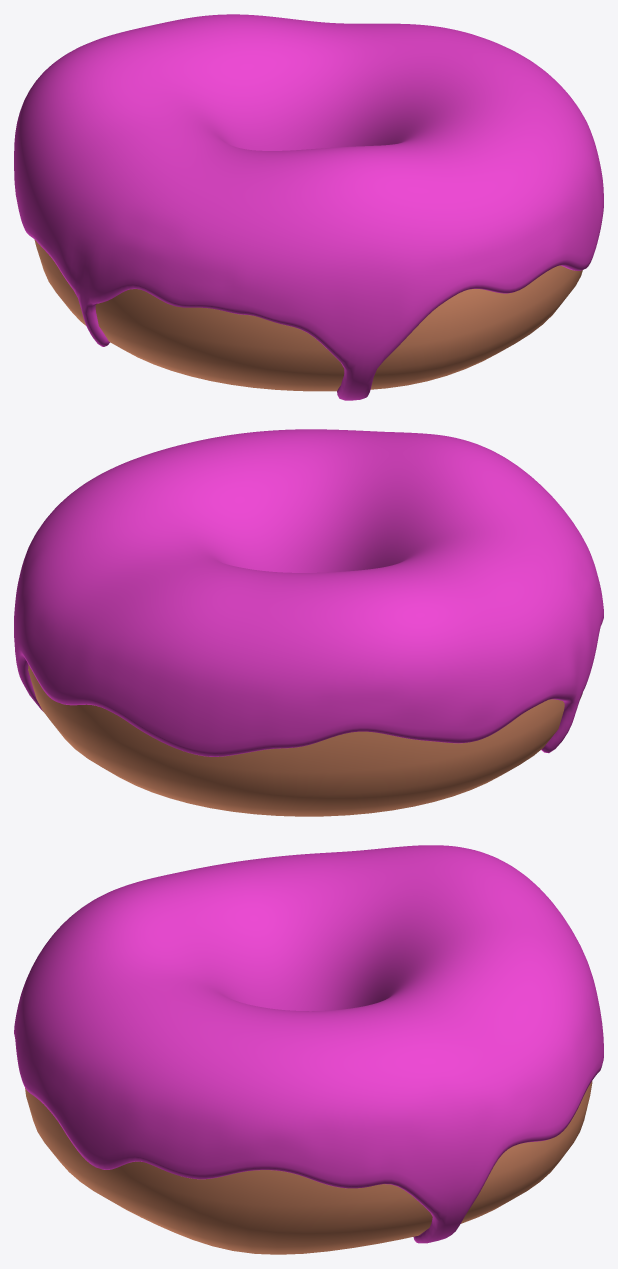
File: asset.glb
3 views of the same model, one above another, from view 1: azimuth 30°, elevation 25°; view 2: azimuth 150°, elevation 25°; view 3: azimuth 270°, elevation 25° (orthographic).
Visible parts, largest first — view 1: icing, Donut; view 2: icing, Donut; view 3: icing, Donut.
Part boxes in pixels (box(x1,y1,x2,y2)): icing: box(14, 14, 603, 400); Donut: box(34, 239, 582, 391); icing: box(14, 429, 603, 756); Donut: box(28, 664, 582, 816); icing: box(14, 845, 603, 1243); Donut: box(25, 1081, 592, 1254).
Bounding box in the file's own units: 1.27 × 0.571 × 1.25.
